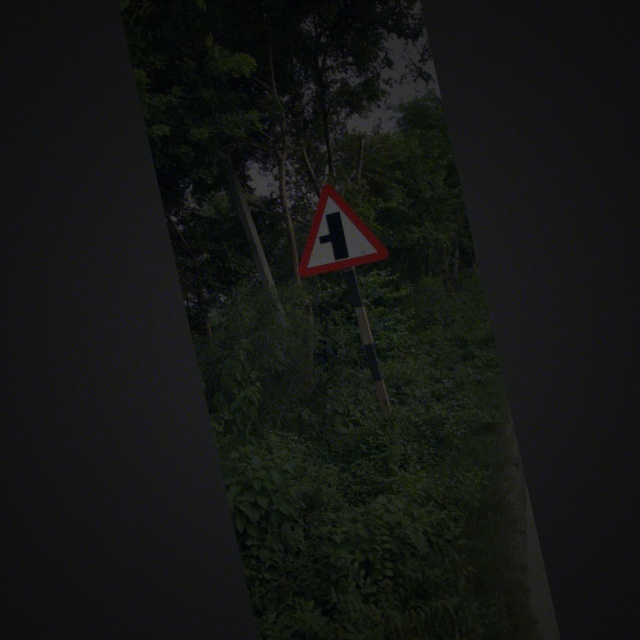Side_Road_Left: (277, 177, 385, 279)
